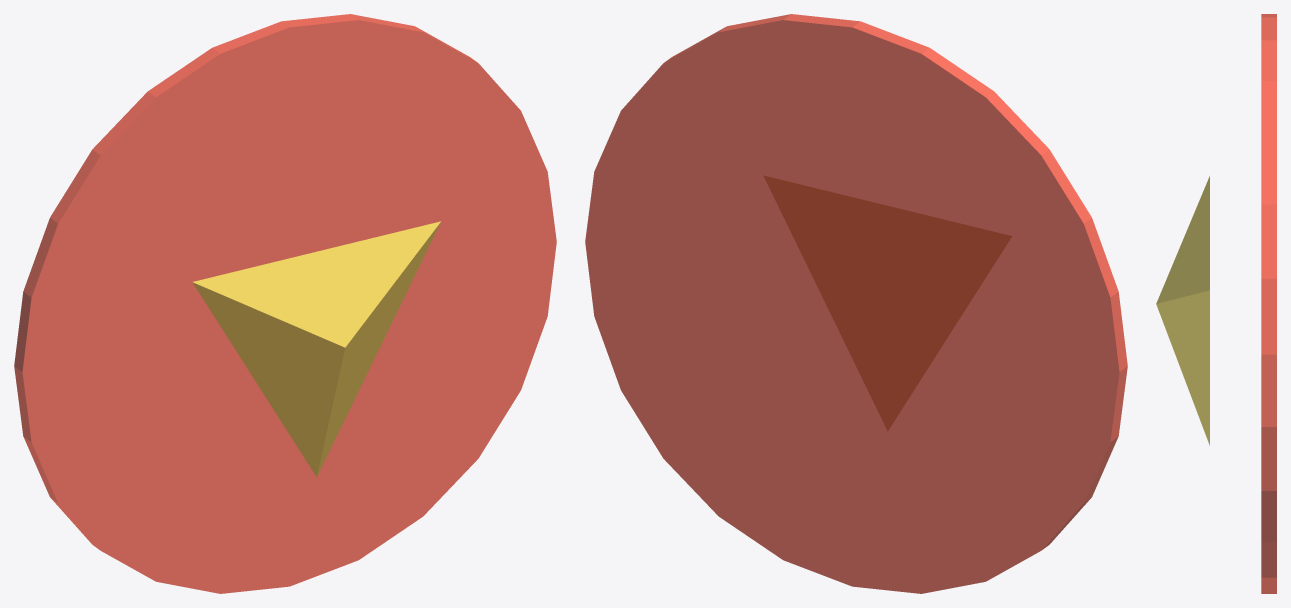
The model's file is enemy_priority_marker.glb.
3 renders of one model, left to right at view 1: azimuth 30°, elevation 25°; view 2: azimuth 150°, elevation 25°; view 3: azimuth 270°, elevation 25°, orthographic. The views are drawn at different scales.
Visible parts, largest first — view 1: danger_disc, alert_triangle; view 2: danger_disc, alert_triangle; view 3: danger_disc, alert_triangle.
Part boxes in pixels (left/top/right/bottom): danger_disc: left=14, top=14, right=556, bottom=593; alert_triangle: left=192, top=221, right=440, bottom=476; danger_disc: left=585, top=14, right=1127, bottom=593; alert_triangle: left=764, top=176, right=1011, bottom=429; danger_disc: left=1261, top=14, right=1276, bottom=593; alert_triangle: left=1156, top=176, right=1209, bottom=445.
Size of the model in its own units: 1.3 by 1.3 by 0.2695.
